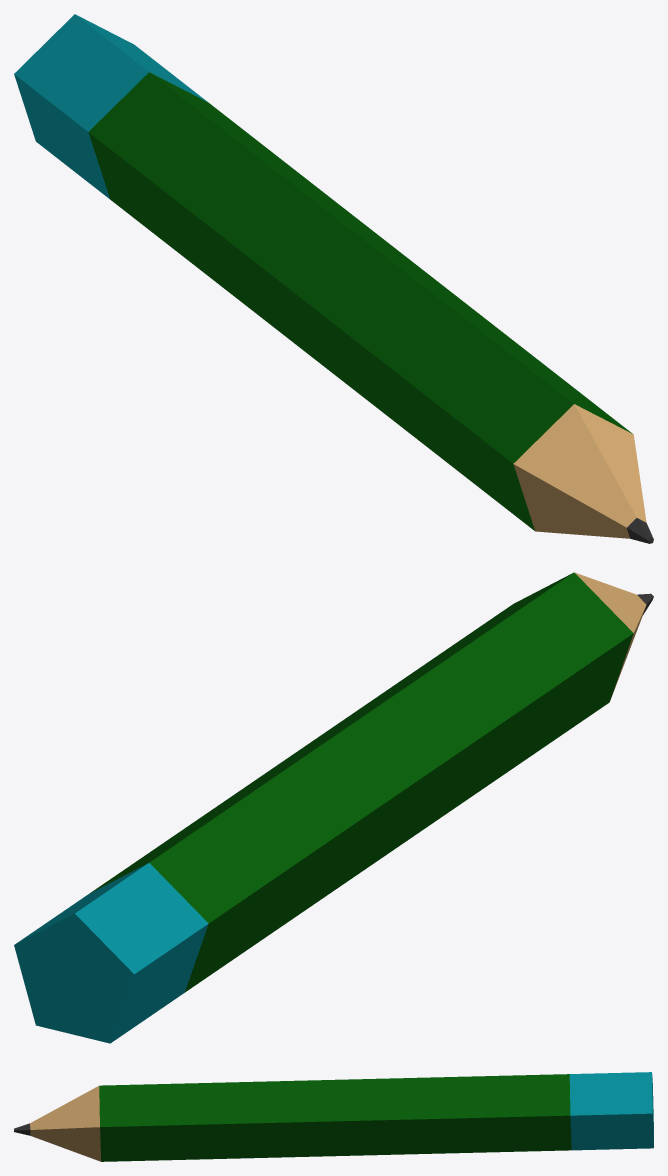
Rendered from Lapis.glb.
3 views of the same model, one above another, from view 1: azimuth 30°, elevation 25°; view 2: azimuth 150°, elevation 25°; view 3: azimuth 270°, elevation 25° (orthographic). The views are drawn at different scales.
Visible parts, largest first — view 1: Cylinder; view 2: Cylinder; view 3: Cylinder.
Part boxes in pixels (bbox=[...]): Cylinder: bbox=[14, 14, 653, 543]; Cylinder: bbox=[14, 572, 653, 1043]; Cylinder: bbox=[14, 1072, 653, 1161].
Bounding box in the file's own units: 0.0761 × 0.0871 × 0.6336.
